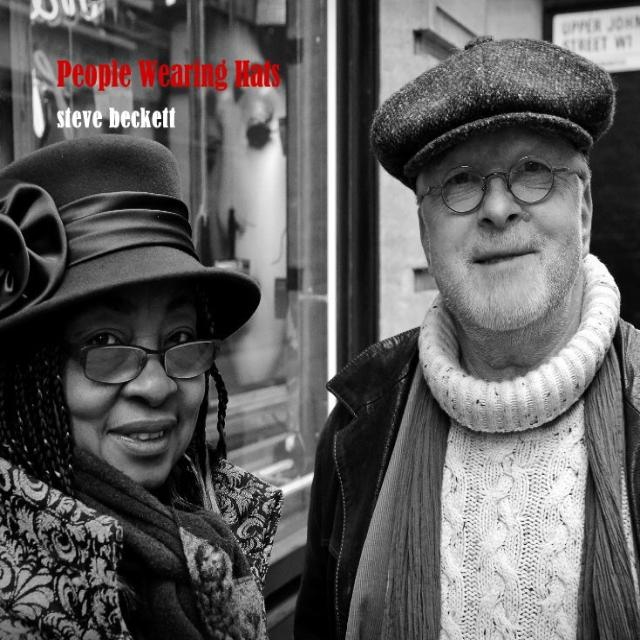cap: (374, 36, 618, 336)
hat: (0, 137, 261, 485)
